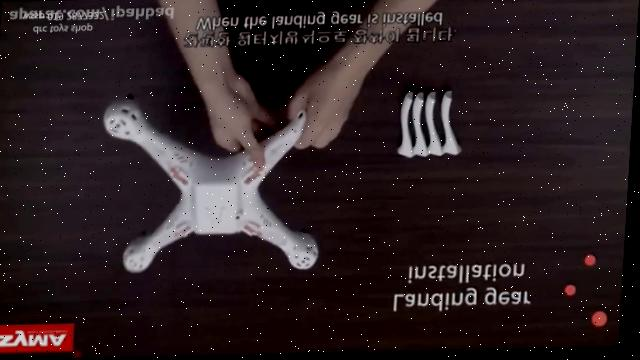drone: (92, 86, 336, 279)
